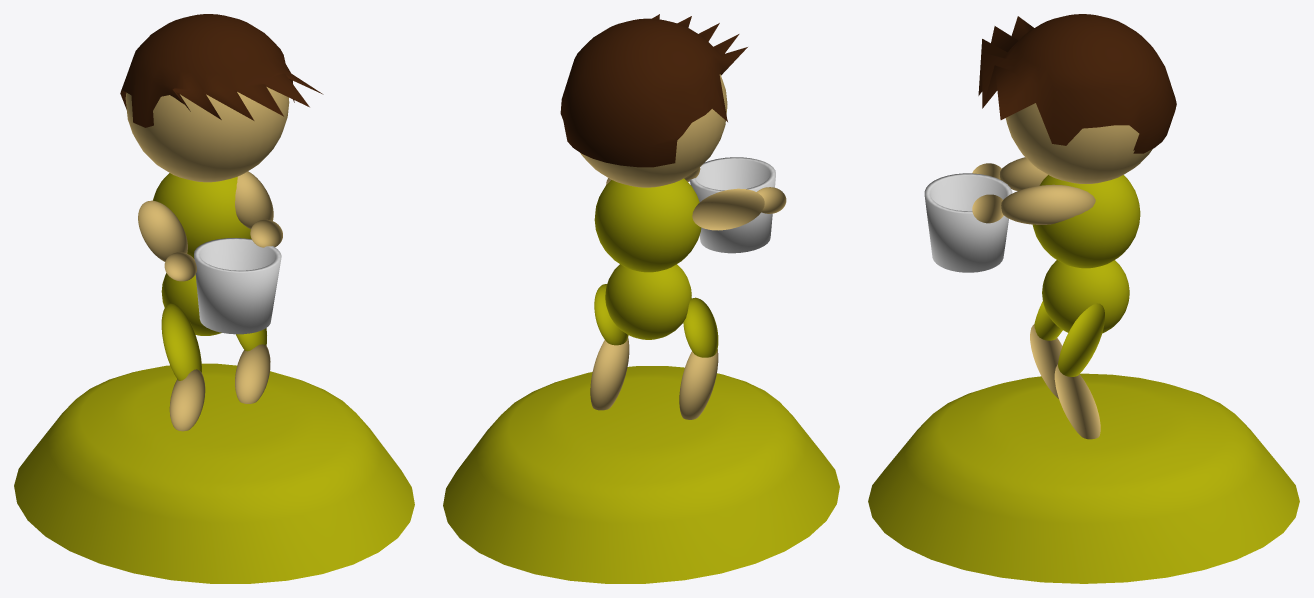
File: er_Yellow_Boy-mod.fbx
3 views of the same model, side by side, from view 1: azimuth 30°, elevation 25°; view 2: azimuth 150°, elevation 25°; view 3: azimuth 270°, elevation 25° (orthographic).
Parts seen in each view (by area): view 1: Circle, Sphere_009, Circle_001; view 2: Circle, Sphere_009, Circle_001; view 3: Circle, Sphere_009, Circle_001.
Boxes of the visible parts, bbox=[...] form: Circle: bbox=[14, 363, 414, 583]; Sphere_009: bbox=[120, 14, 323, 431]; Circle_001: bbox=[138, 171, 282, 334]; Circle: bbox=[443, 366, 839, 583]; Sphere_009: bbox=[560, 14, 747, 419]; Circle_001: bbox=[606, 157, 786, 253]; Circle: bbox=[868, 373, 1299, 583]; Sphere_009: bbox=[978, 14, 1176, 439]; Circle_001: bbox=[924, 157, 1095, 272].
Size of the model in its own units: 1.22 by 1.64 by 1.35.
